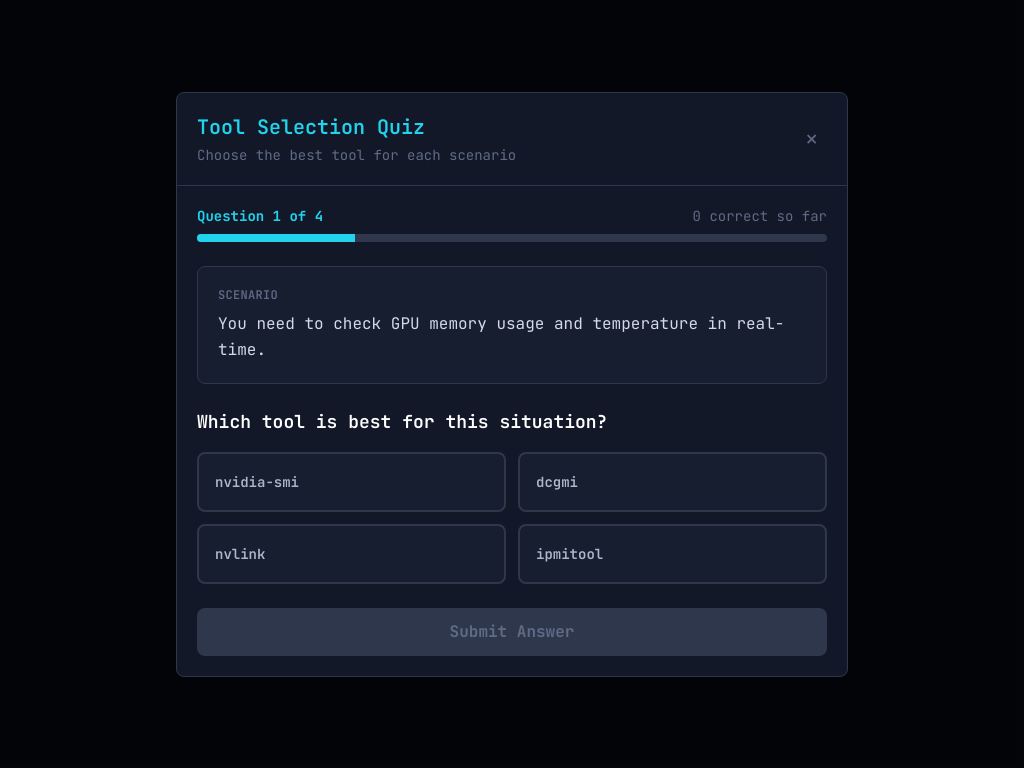
it: WhichToolQuiz › shows feedback after submitting incorrect answer
The image size is (1024, 768).
Select incorrect answer
Click the button "ipmitool" at (570, 554), box [518,524,827,584]
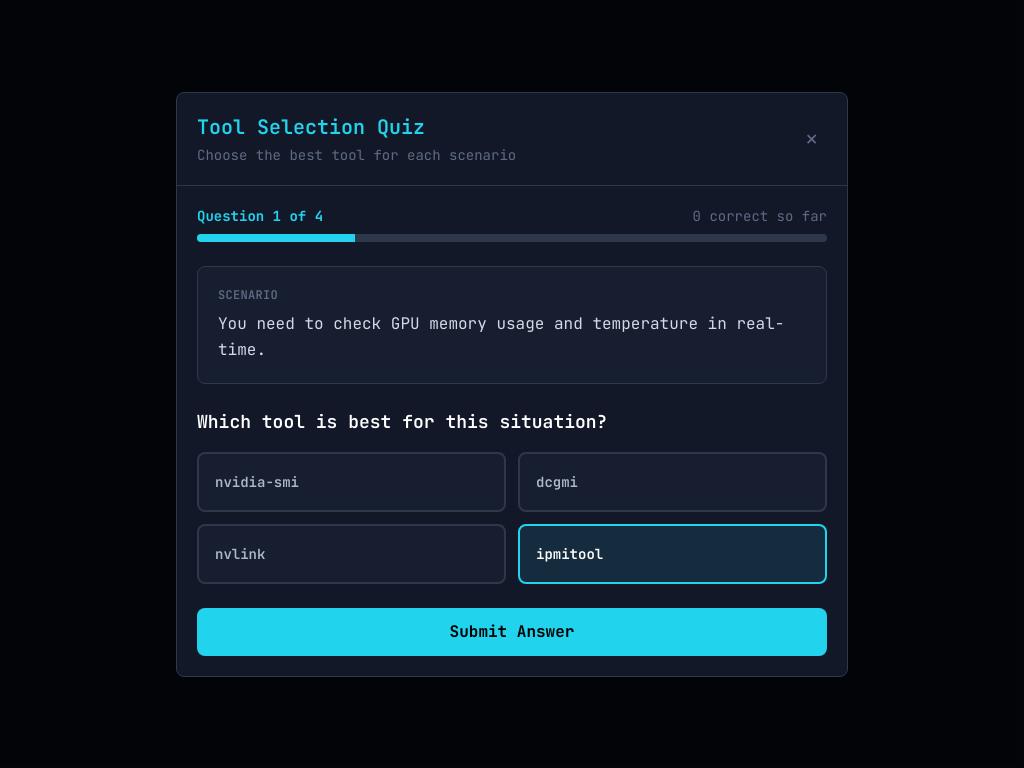
Click the button "Submit Answer" at (512, 632), box [197,608,827,656]
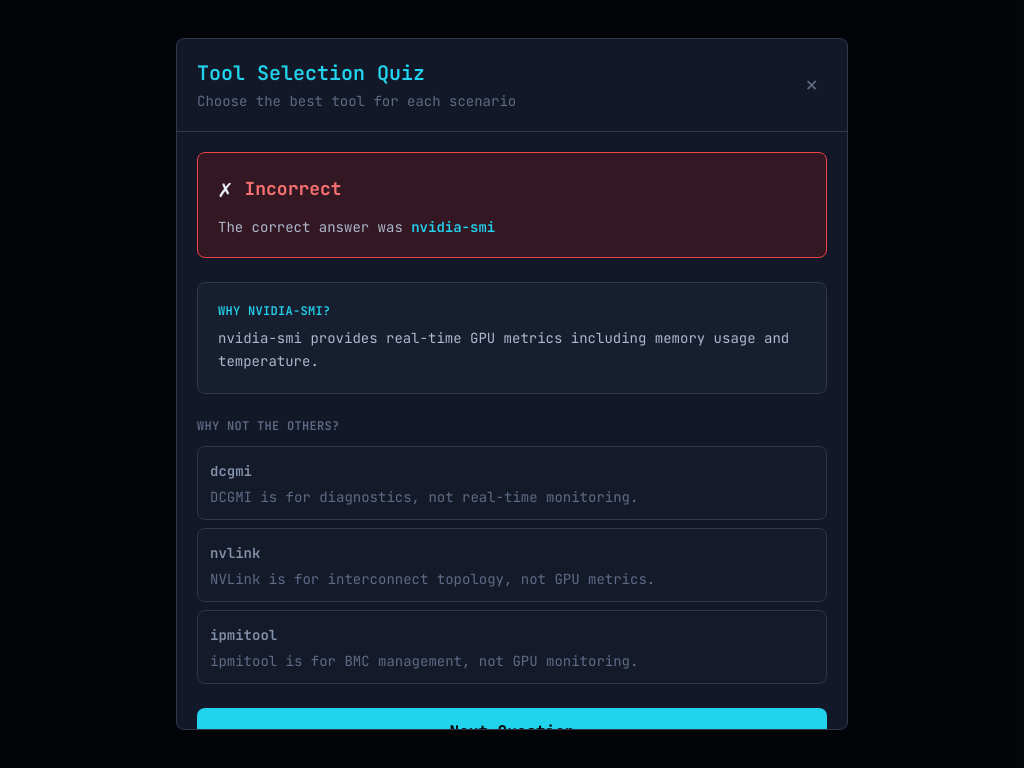
Now the text "Incorrect" is shown, box [244,175,342,203]
Now the text "The correct answer was nvidia-smi" is shown, box [218,218,495,236]
